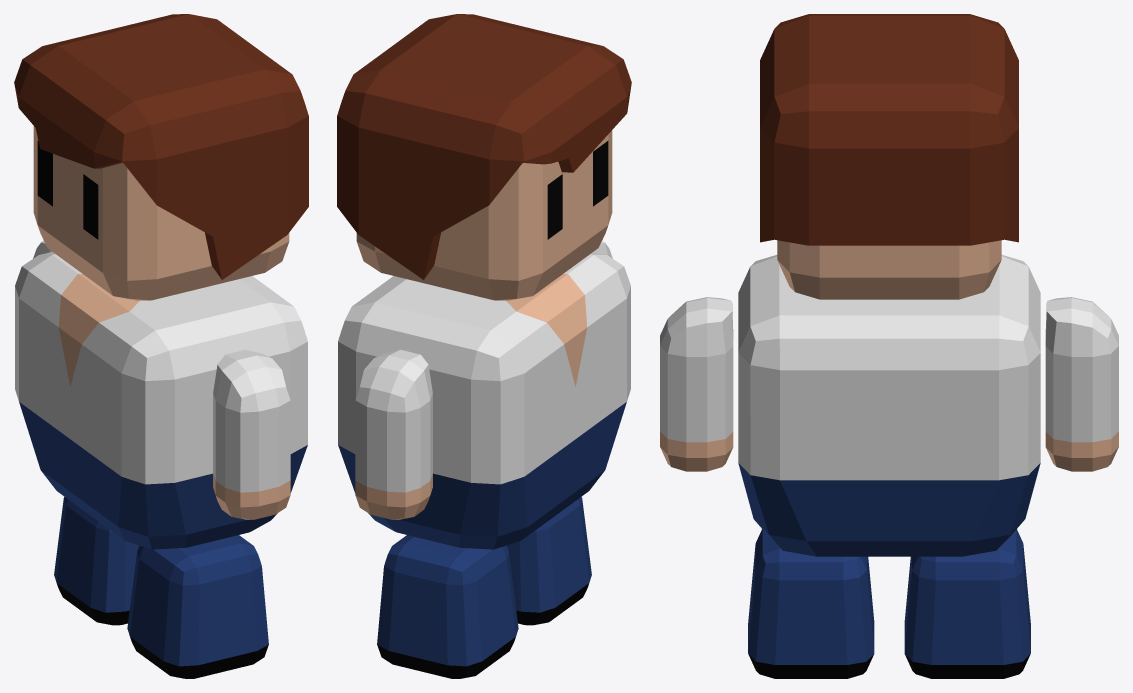
Rendered from actor_pc_01_tmp.fbx.
The picture shows the model from 3 angles, left to right: view 1: azimuth 30°, elevation 25°; view 2: azimuth 150°, elevation 25°; view 3: azimuth 270°, elevation 25°; orthographic projection. The views are drawn at different scales.
Visible parts, largest first — view 1: Cube.027; view 2: Cube.027; view 3: Cube.027.
Part boxes in pixels (x1=…): Cube.027: x1=14, y1=14, x2=308, y2=678; Cube.027: x1=337, y1=14, x2=631, y2=678; Cube.027: x1=660, y1=14, x2=1118, y2=678.
Size of the model in its own units: 28.04 by 73.34 by 49.74.
